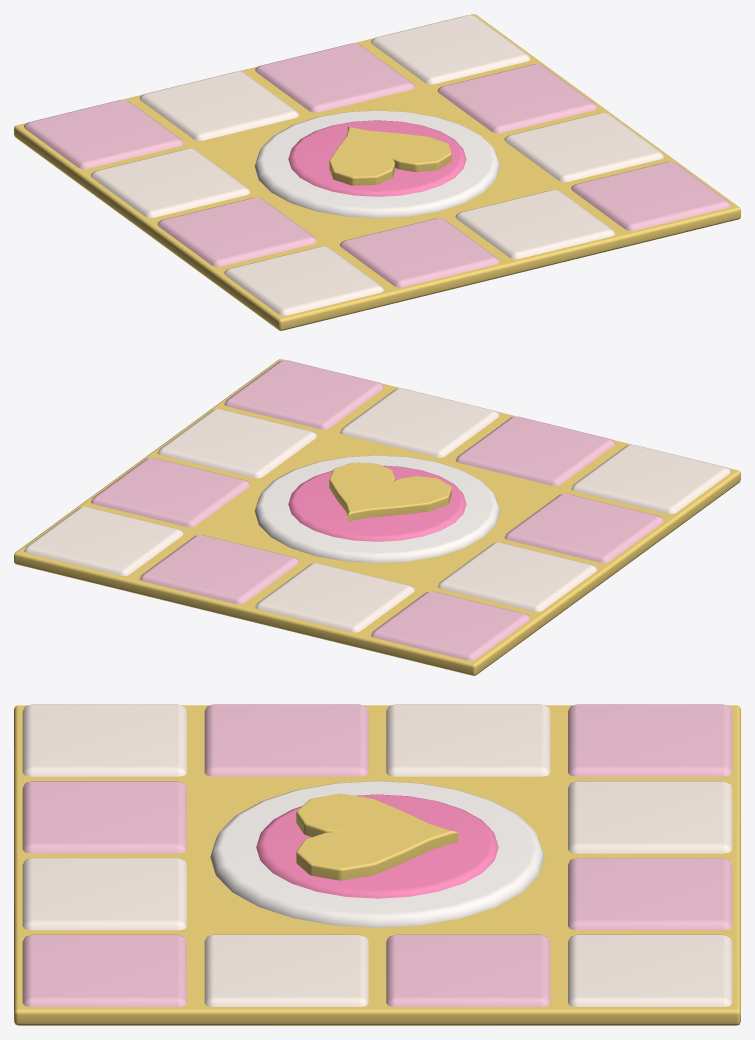
File: paving_tile.glb
3 views of the same model, one above another, from view 1: azimuth 30°, elevation 25°; view 2: azimuth 150°, elevation 25°; view 3: azimuth 270°, elevation 25° (orthographic). The views are drawn at different scales.
Visible parts, largest first — view 1: paving_tile; view 2: paving_tile; view 3: paving_tile.
Part boxes in pixels (x1,y1,x2,y2): paving_tile: (14,14,740,330); paving_tile: (14,359,740,675); paving_tile: (14,704,740,1025).
Bounding box in the file's own units: 2 × 0.135 × 2.
